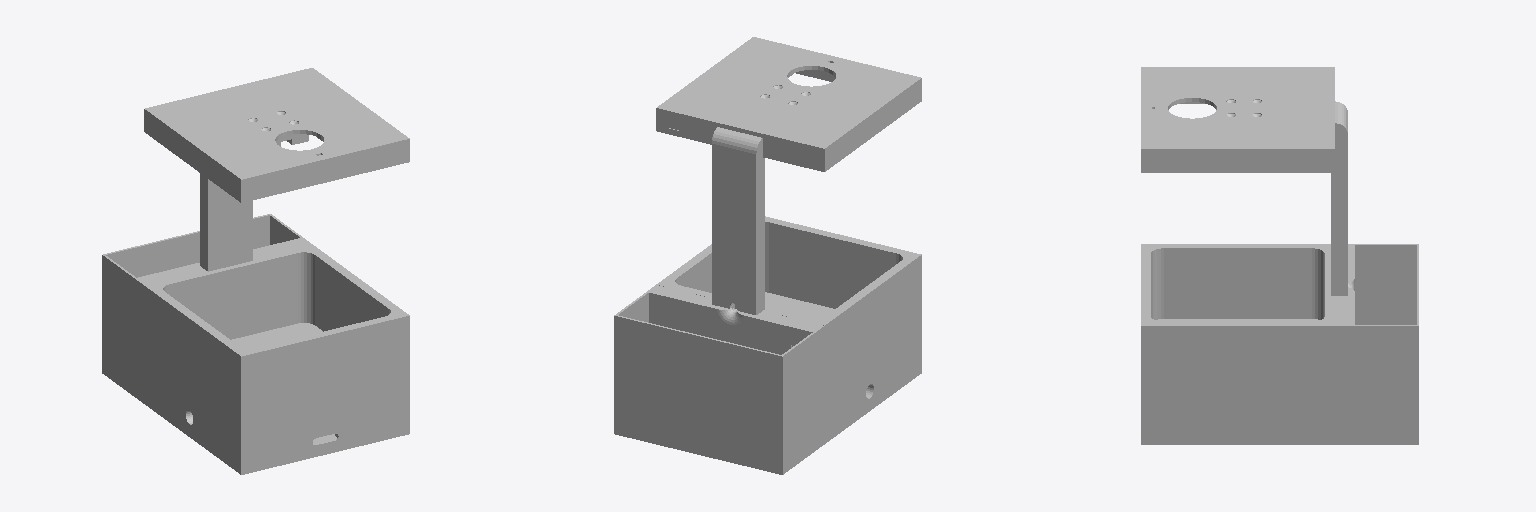
File: projet_hydroponique v63.obj
The picture shows the model from 3 angles: view 1: azimuth 30°, elevation 25°; view 2: azimuth 150°, elevation 25°; view 3: azimuth 270°, elevation 25°; orthographic projection.
Parts seen in each view (by area): view 1: Corps1, Corps1:3, Corps1:4, Corps1:1, Corps1:2; view 2: Corps1:4, Corps1:3, Corps1, Corps1:2, Corps1:1; view 3: Corps1, Corps1:3, Corps1:4, Corps1:1, Corps1:2.
Boxes of the visible parts, x1=… form: Corps1: x1=144, y1=244, x2=409, y2=444; Corps1:3: x1=144, y1=68, x2=409, y2=202; Corps1:4: x1=102, y1=214, x2=311, y2=403; Corps1:1: x1=144, y1=374, x2=409, y2=474; Corps1:2: x1=200, y1=134, x2=308, y2=271; Corps1:4: x1=614, y1=285, x2=824, y2=474; Corps1:3: x1=656, y1=37, x2=921, y2=171; Corps1: x1=656, y1=216, x2=921, y2=412; Corps1:2: x1=712, y1=127, x2=764, y2=314; Corps1:1: x1=825, y1=343, x2=921, y2=443; Corps1: x1=1141, y1=244, x2=1334, y2=413; Corps1:3: x1=1141, y1=67, x2=1334, y2=172; Corps1:4: x1=1335, y1=244, x2=1418, y2=444; Corps1:1: x1=1141, y1=414, x2=1334, y2=444; Corps1:2: x1=1331, y1=101, x2=1347, y2=295.
Size of the model in its own units: 15 by 25.15 by 21.5.